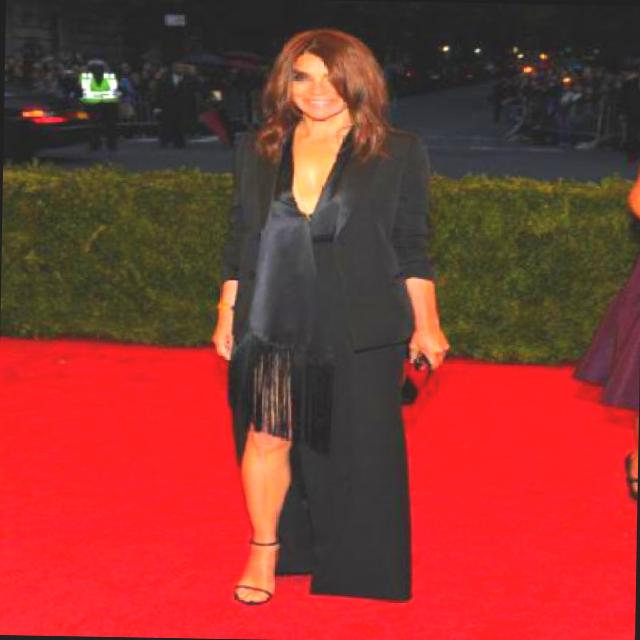Person: (168, 17, 498, 615)
